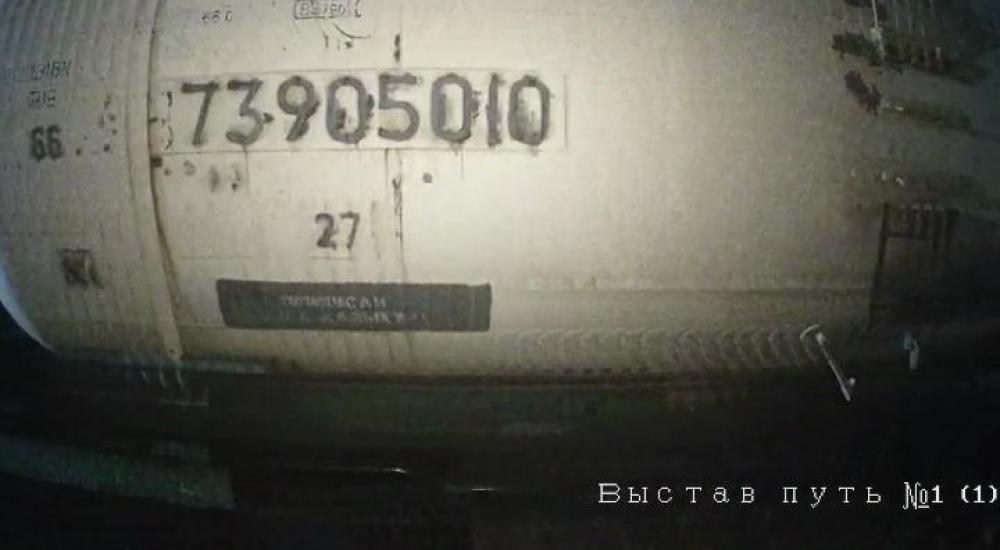Wagon-number: (176, 70, 553, 151)
